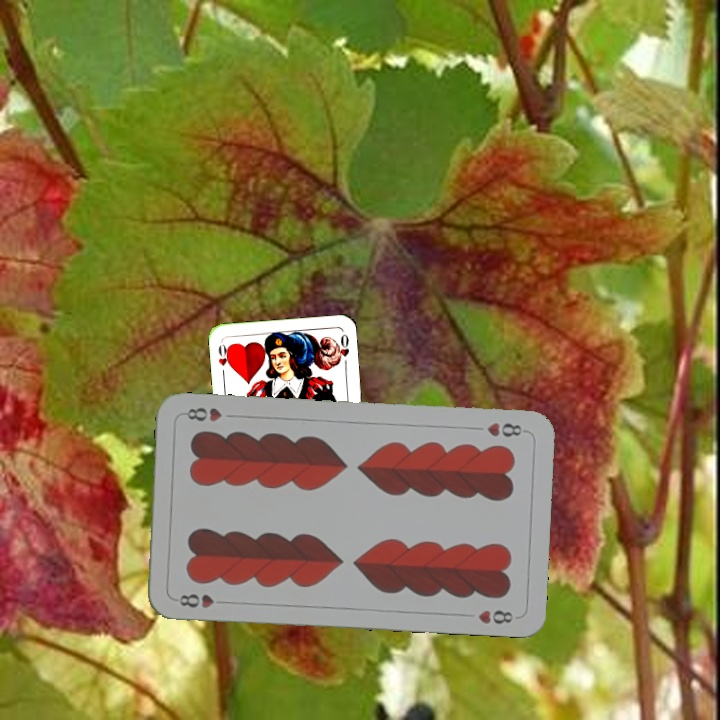H8: (176, 590, 230, 611), (483, 418, 529, 440)
HO: (214, 338, 233, 379)
